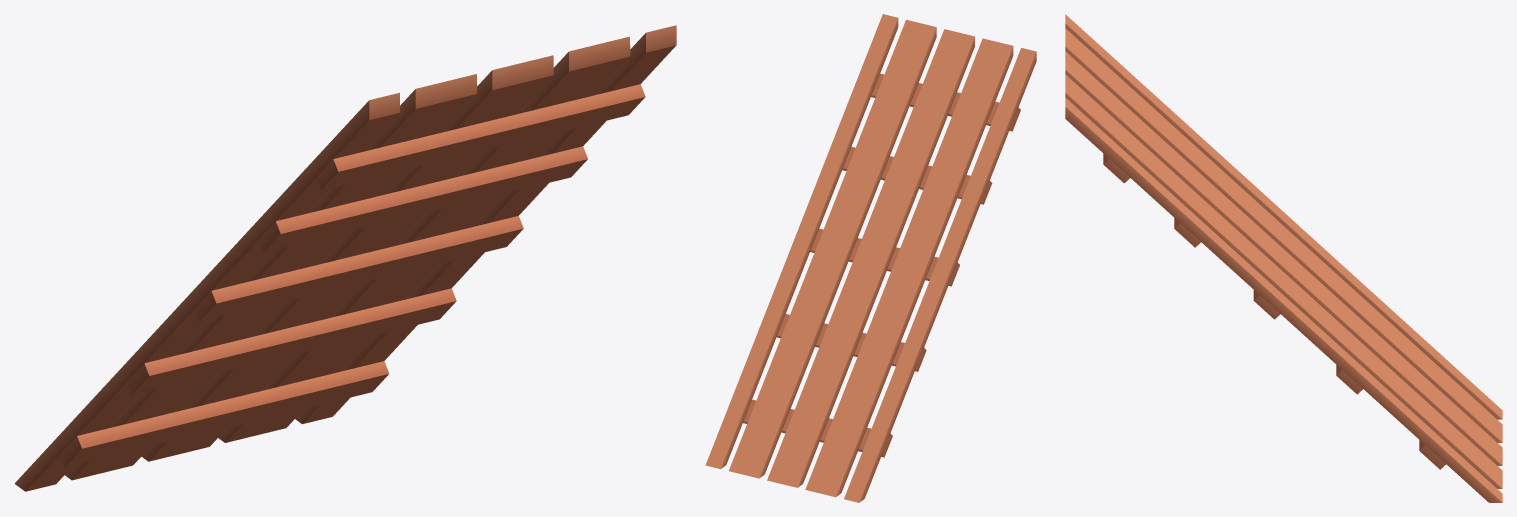
The model's file is ramp.glb.
3 renders of one model, left to right at view 1: azimuth 30°, elevation 25°; view 2: azimuth 150°, elevation 25°; view 3: azimuth 270°, elevation 25°, orthographic. The views are drawn at different scales.
Visible parts, largest first — view 1: RampDeck; view 2: RampDeck; view 3: RampDeck.
Boxes of the visible parts, x1,y1,x2,y2 form: RampDeck: (14, 25, 676, 491); RampDeck: (705, 14, 1036, 502); RampDeck: (1065, 14, 1502, 502).
Bounding box in the file's own units: 2 × 4 × 4.
1 material, 1 textured.
